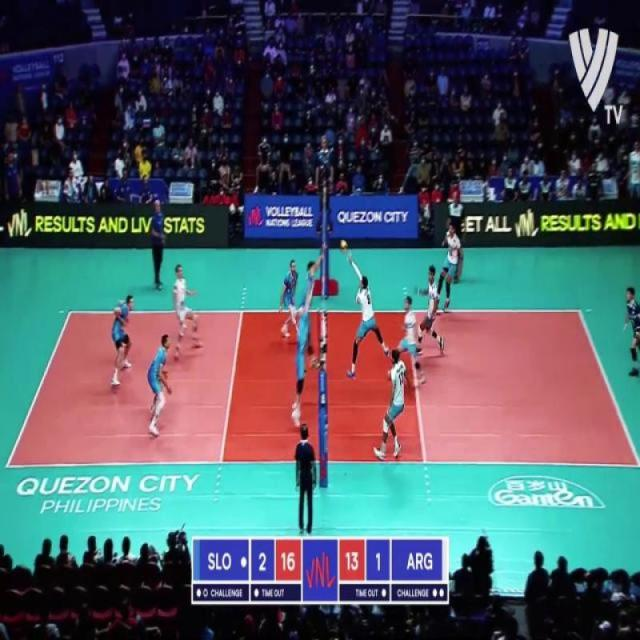volleyball: (339, 238, 347, 254)
